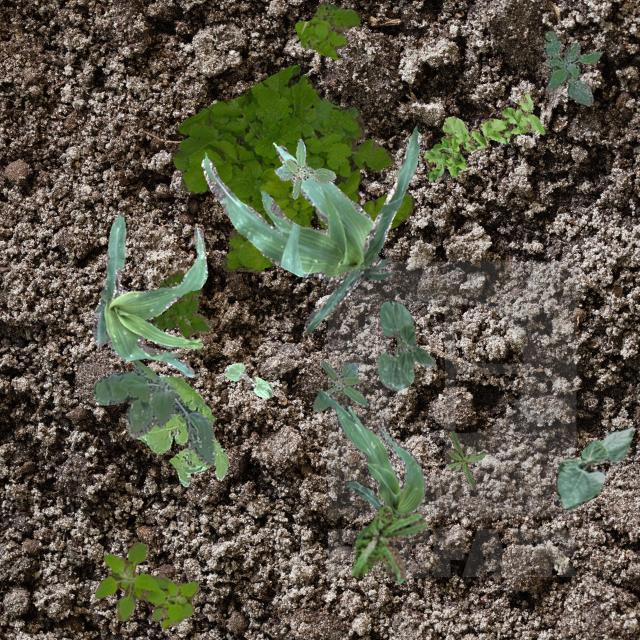crop: (200, 125, 420, 332), (92, 214, 206, 376), (316, 388, 424, 518), (554, 426, 632, 508), (376, 300, 434, 390), (222, 362, 272, 396)
weed: (170, 65, 414, 272), (92, 358, 214, 463), (422, 92, 544, 180), (136, 374, 228, 486), (94, 540, 198, 628), (351, 503, 426, 582), (542, 30, 600, 104), (148, 270, 210, 336), (294, 2, 359, 58), (274, 138, 334, 198), (312, 360, 368, 410), (448, 429, 484, 488)
